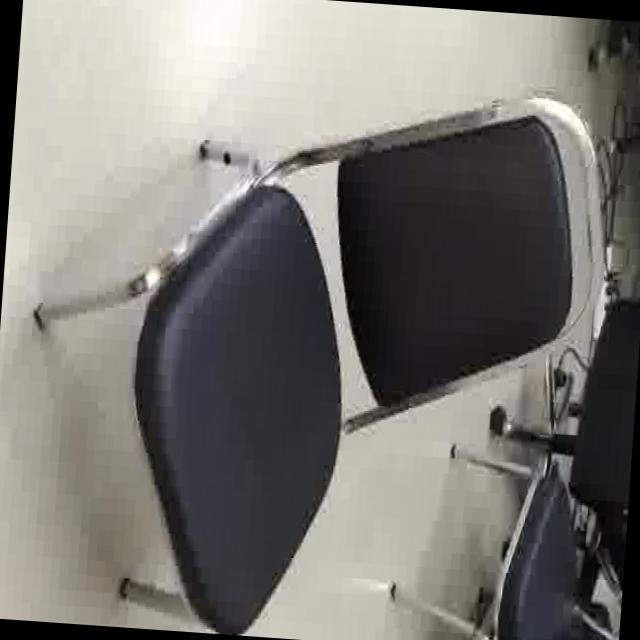chair: (9, 24, 631, 640)
